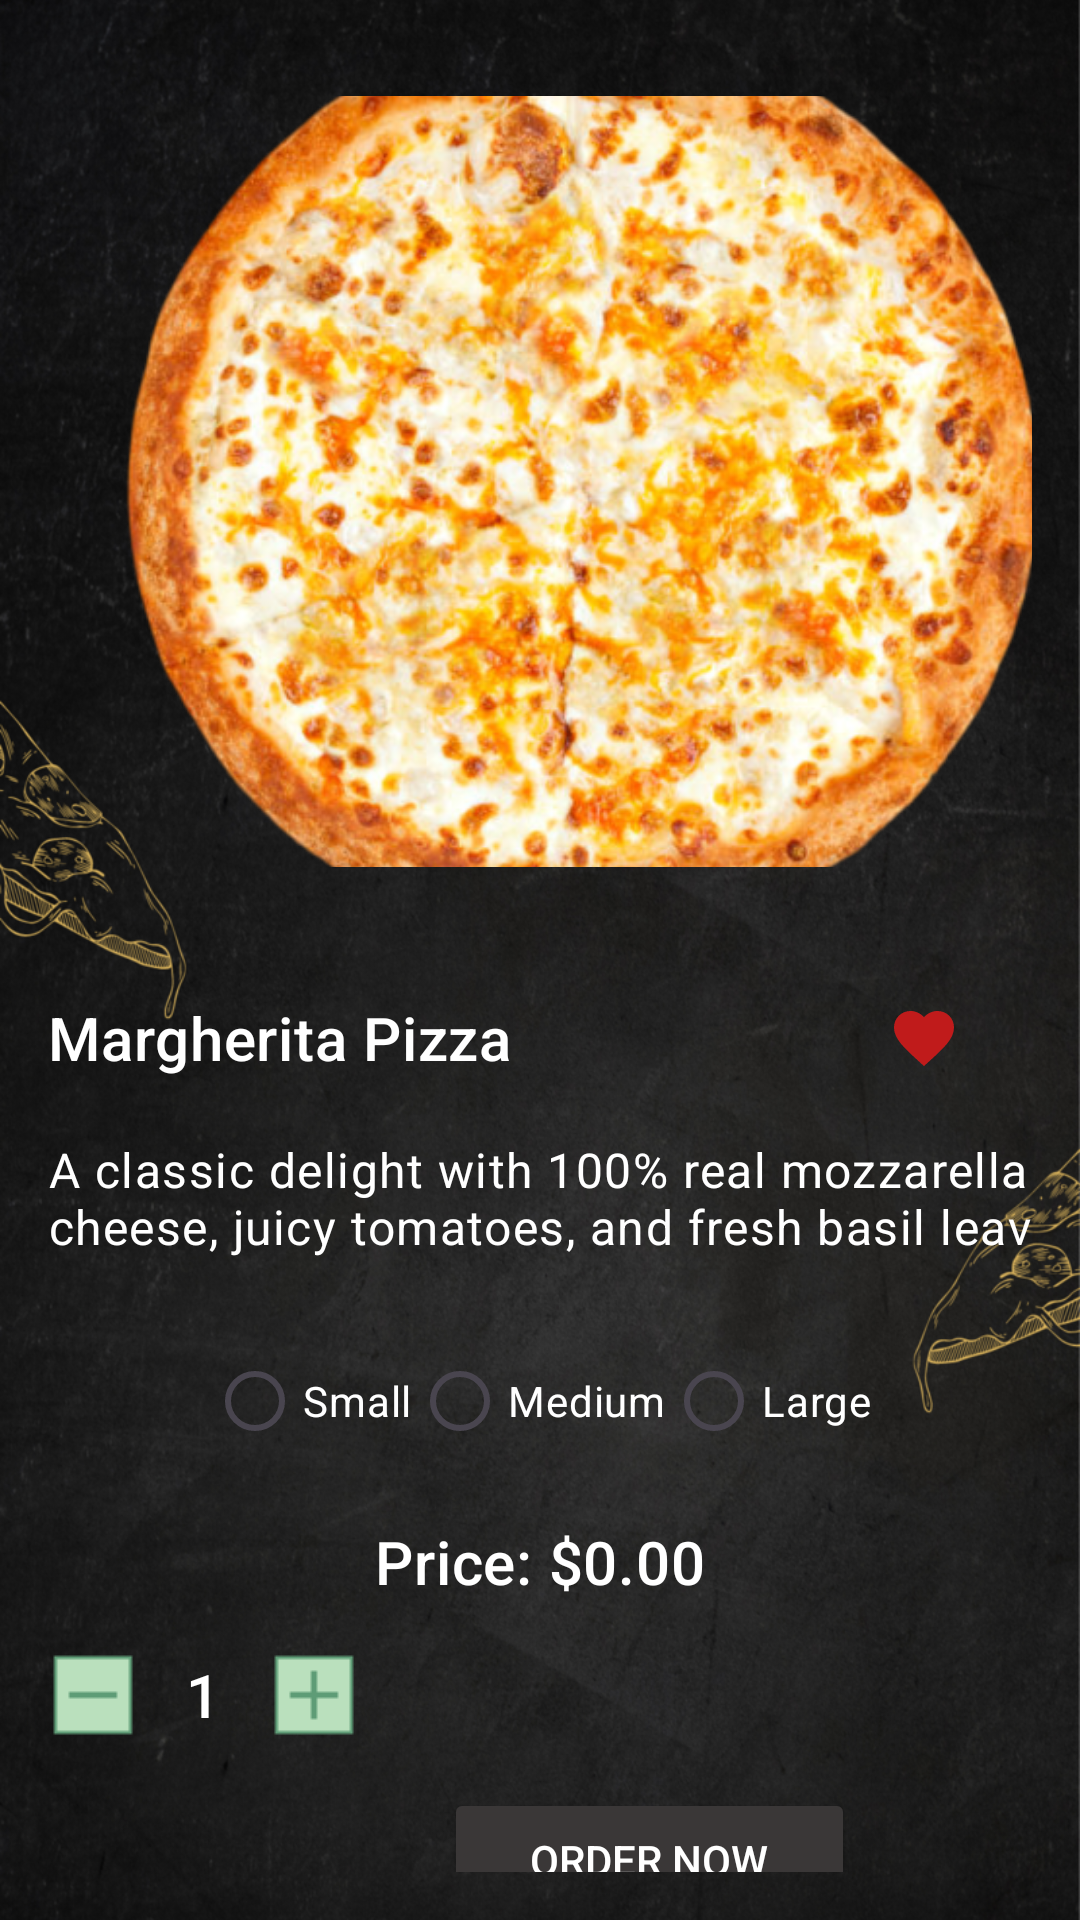

Icons on this 1080x1920 Android screen, each with its box as region(x1, y1, x2, y2):
add: region(274, 1655, 354, 1735)
Add to favorites: region(894, 1011, 954, 1066)
subtract: region(53, 1655, 133, 1735)
